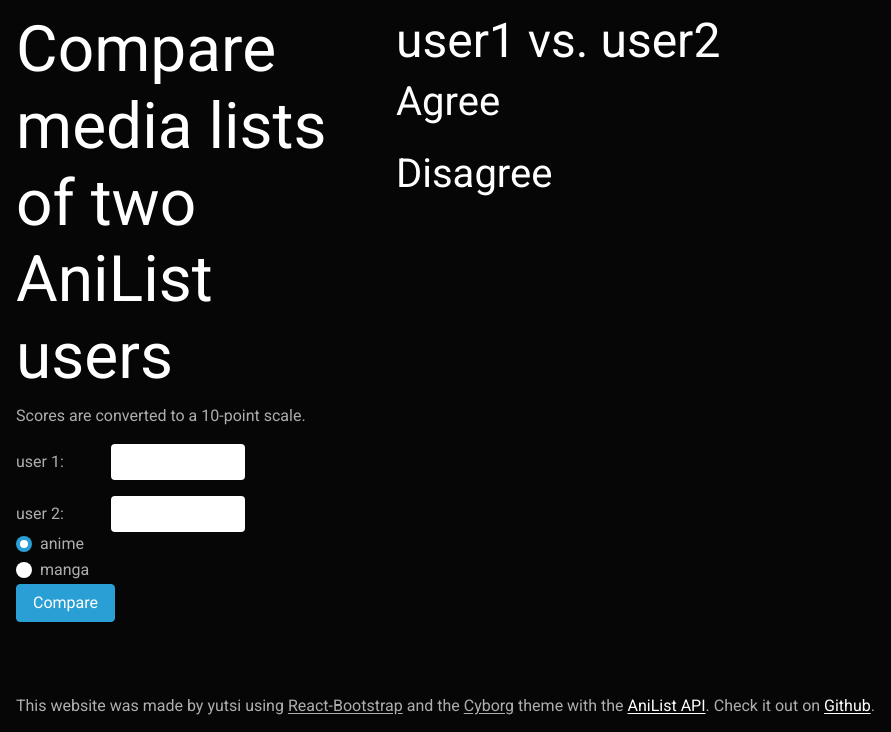
Test: click compare without entering usernames, get error
Click the button with aria-label "submit" at point(66, 603), box [16,584,115,622]
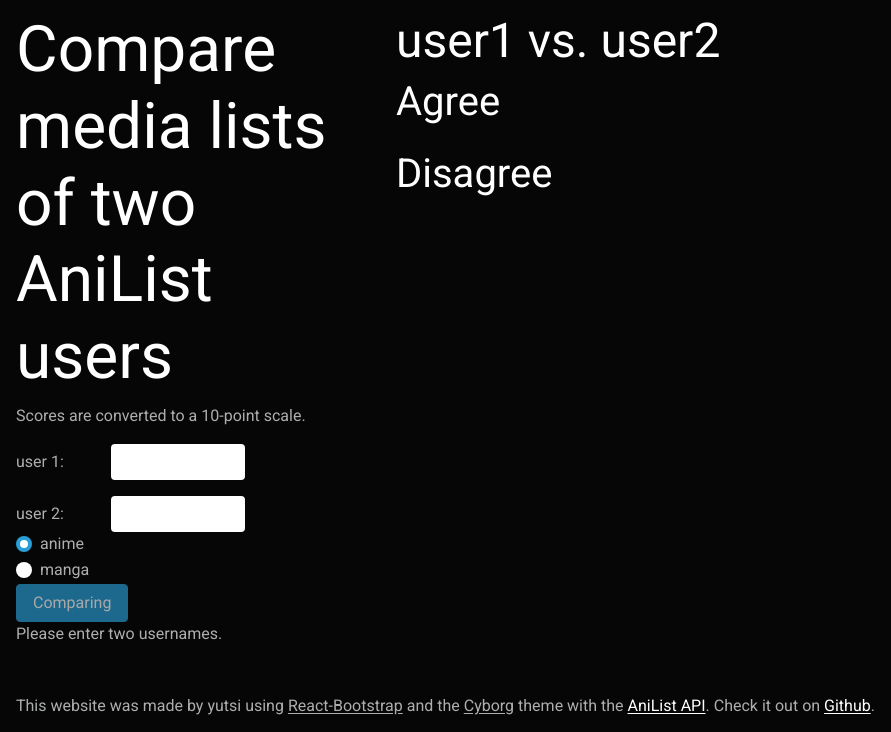
Check: the text "placeholder" reads "Please enter two usernames.", box [16,624,222,643]
